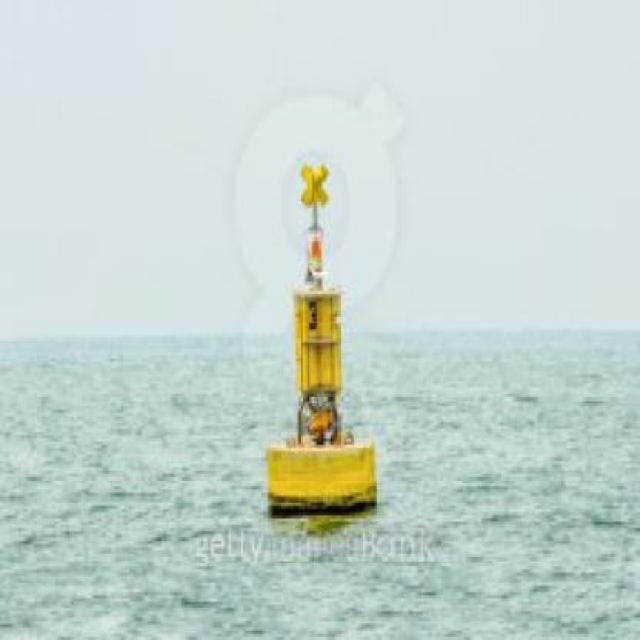buoy: (250, 145, 383, 523)
